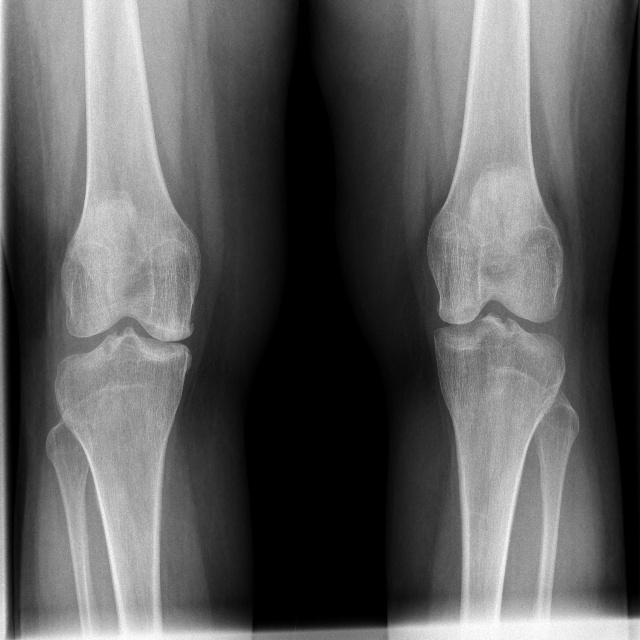Knee: (422, 246, 567, 401), (54, 249, 199, 401)
